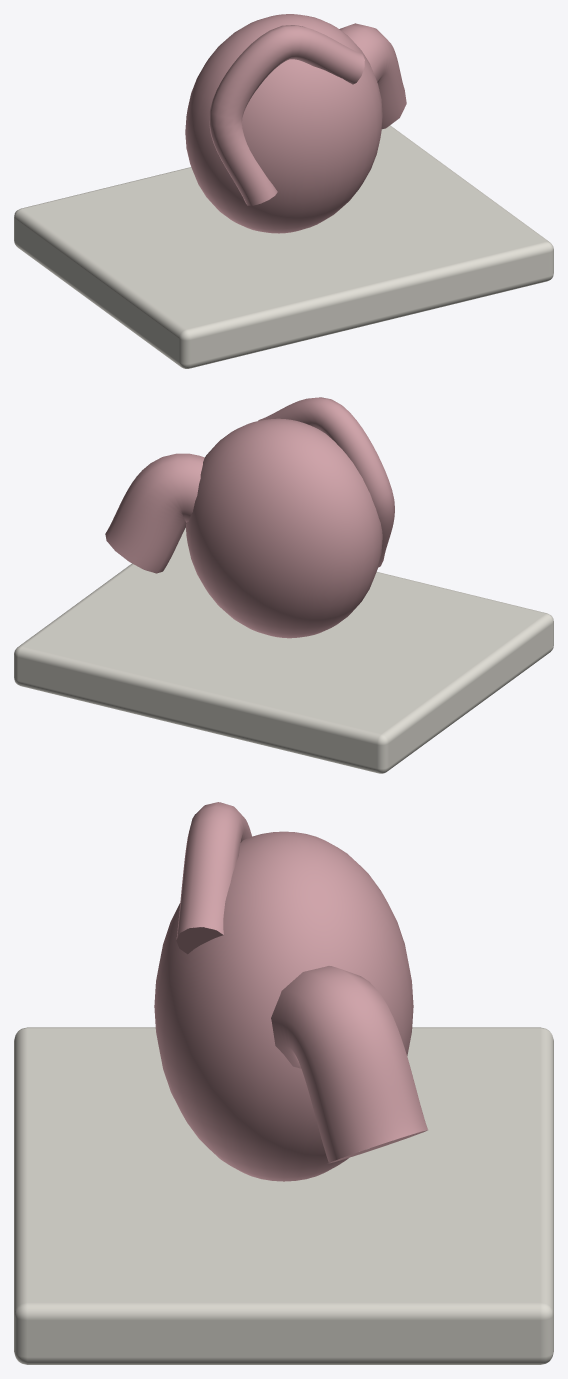
The model's file is hearing-aid-and-audiology-clinic-earmould-impression-d-a09e34a9__31748.glb.
3 renders of one model, top to bottom at view 1: azimuth 30°, elevation 25°; view 2: azimuth 150°, elevation 25°; view 3: azimuth 270°, elevation 25°, orthographic. The views are drawn at different scales.
Parts seen in each view (by area): view 1: earmould-impression-display; view 2: earmould-impression-display; view 3: earmould-impression-display.
Part boxes in pixels (box(x1,y1,x2,y2)): earmould-impression-display: box(14, 14, 553, 368); earmould-impression-display: box(14, 397, 553, 773); earmould-impression-display: box(14, 802, 553, 1364).
Size of the model in its own units: 0.05 by 0.033 by 0.04.
